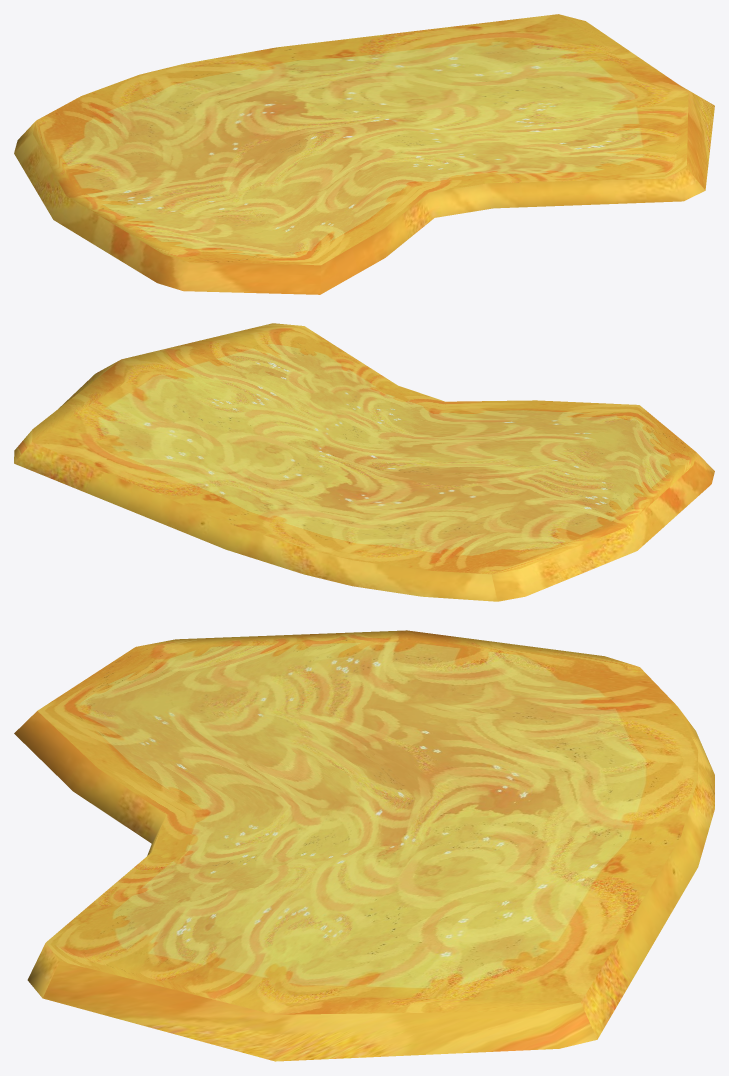
File: entity299038.gltf
3 renders of one model, top to bottom at view 1: azimuth 30°, elevation 25°; view 2: azimuth 150°, elevation 25°; view 3: azimuth 270°, elevation 25°, orthographic. The views are drawn at different scales.
Parts seen in each view (by area): view 1: node_Path_0129; view 2: node_Path_0129; view 3: node_Path_0129.
Part boxes in pixels (box(x1,y1,x2,y2)): node_Path_0129: box(14, 14, 714, 294); node_Path_0129: box(14, 323, 714, 601); node_Path_0129: box(14, 630, 714, 1061).
Size of what is drawn, in the model's own units: 6.33 by 0.2079 by 4.57.
1 material, 1 textured.
